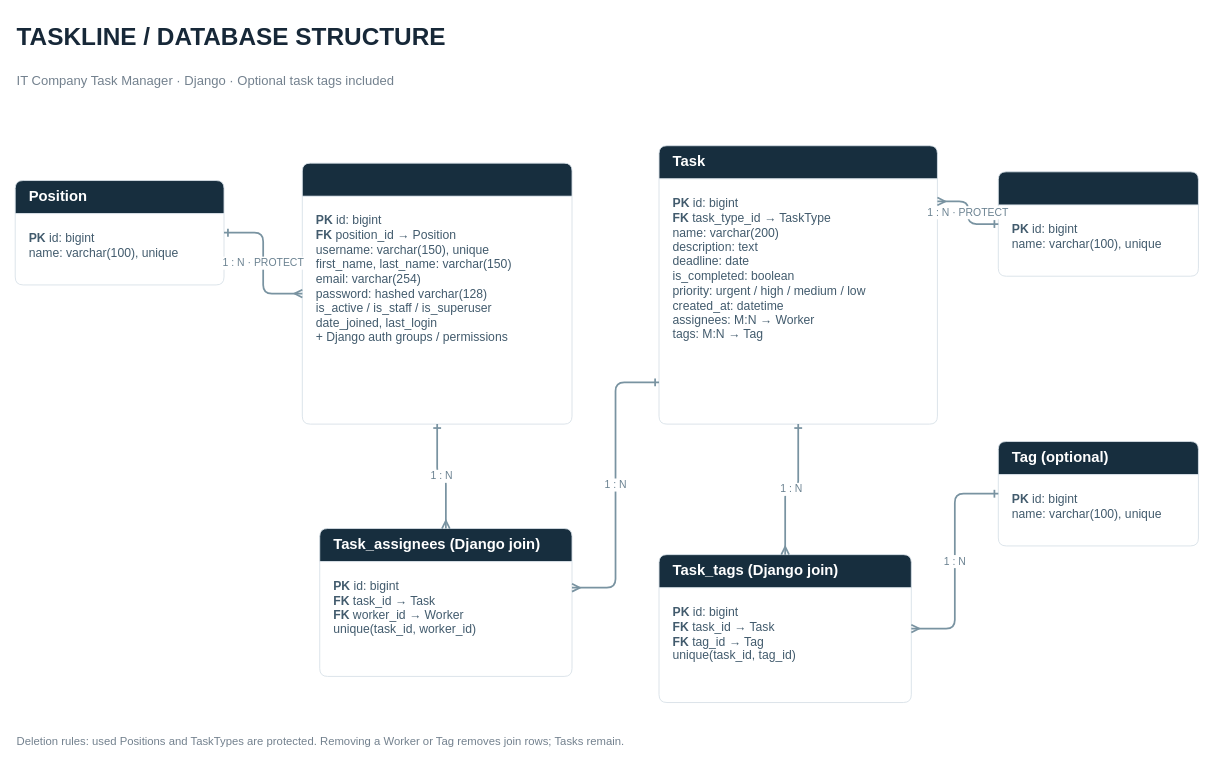
Some shapes in this 1214 by 769 pixel diagram are drawn without their labels. Each missing label, with the box of its shape:
TaskType: (997, 171, 1198, 276)
Worker (AbstractUser): (301, 162, 572, 424)
